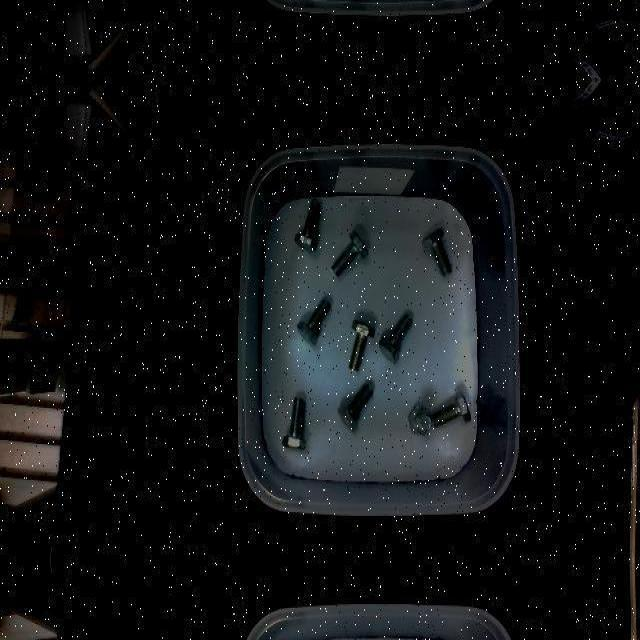screw: (337, 383, 373, 431), (331, 230, 368, 276), (378, 314, 412, 362), (296, 298, 330, 344), (422, 227, 453, 277), (431, 389, 471, 427), (348, 320, 375, 372), (294, 200, 321, 252), (282, 397, 307, 449), (409, 405, 432, 435)
